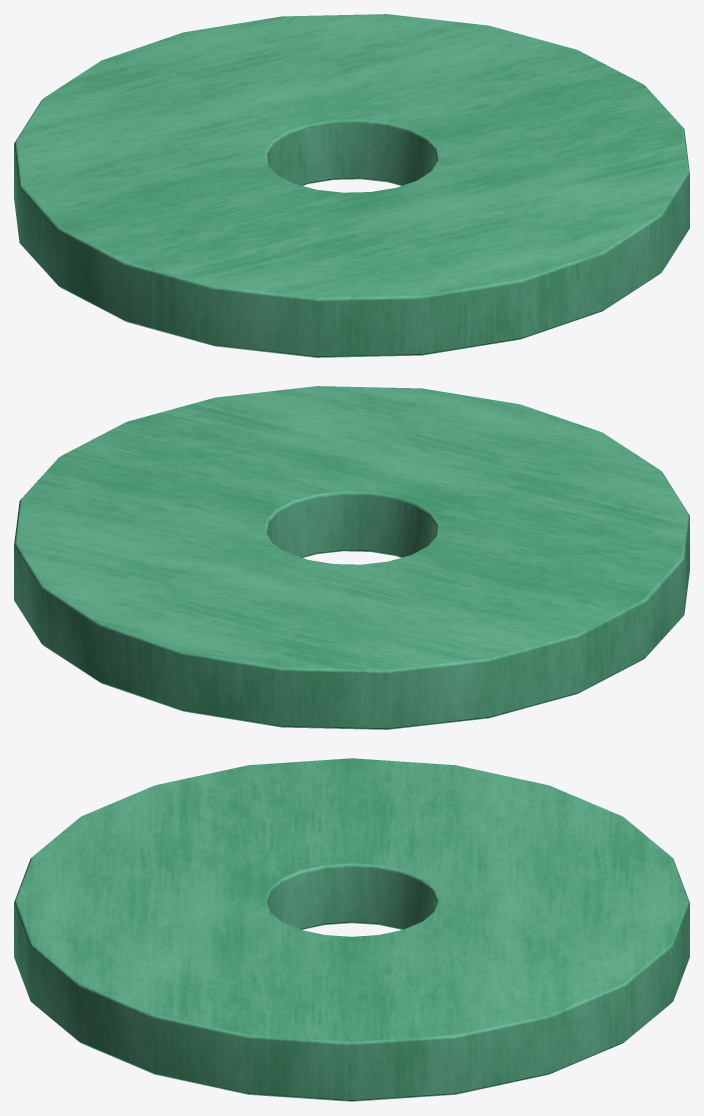
File: stone6.fbx
The picture shows the model from 3 angles, top to bottom: view 1: azimuth 30°, elevation 25°; view 2: azimuth 150°, elevation 25°; view 3: azimuth 270°, elevation 25°; orthographic projection.
Parts seen in each view (by area): view 1: stone; view 2: stone; view 3: stone.
Part boxes in pixels (bbox=[...]): stone: bbox=[14, 14, 689, 357]; stone: bbox=[14, 386, 689, 729]; stone: bbox=[14, 758, 689, 1101].
Bounding box in the file's own units: 1.32 × 0.1295 × 1.32.
